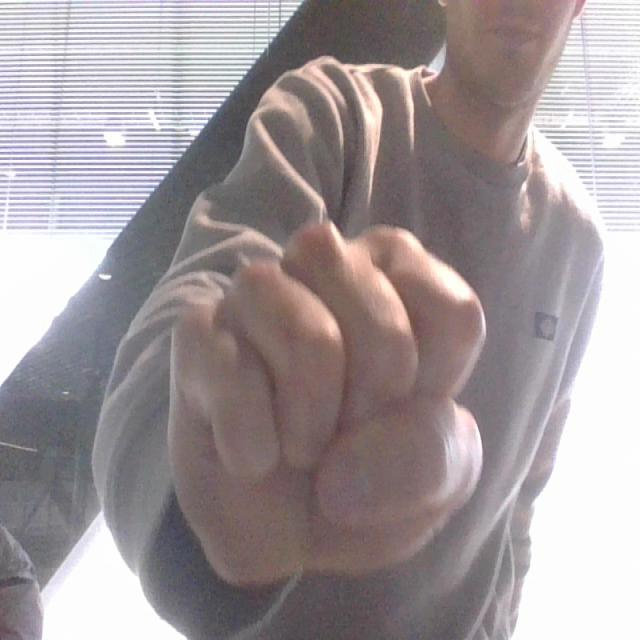stop: (142, 184, 501, 601)
